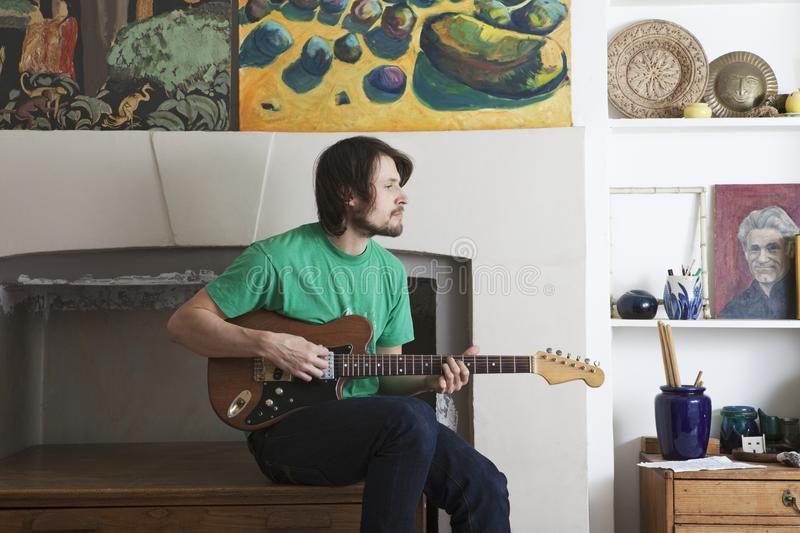acousticguitar: (208, 303, 606, 433)
